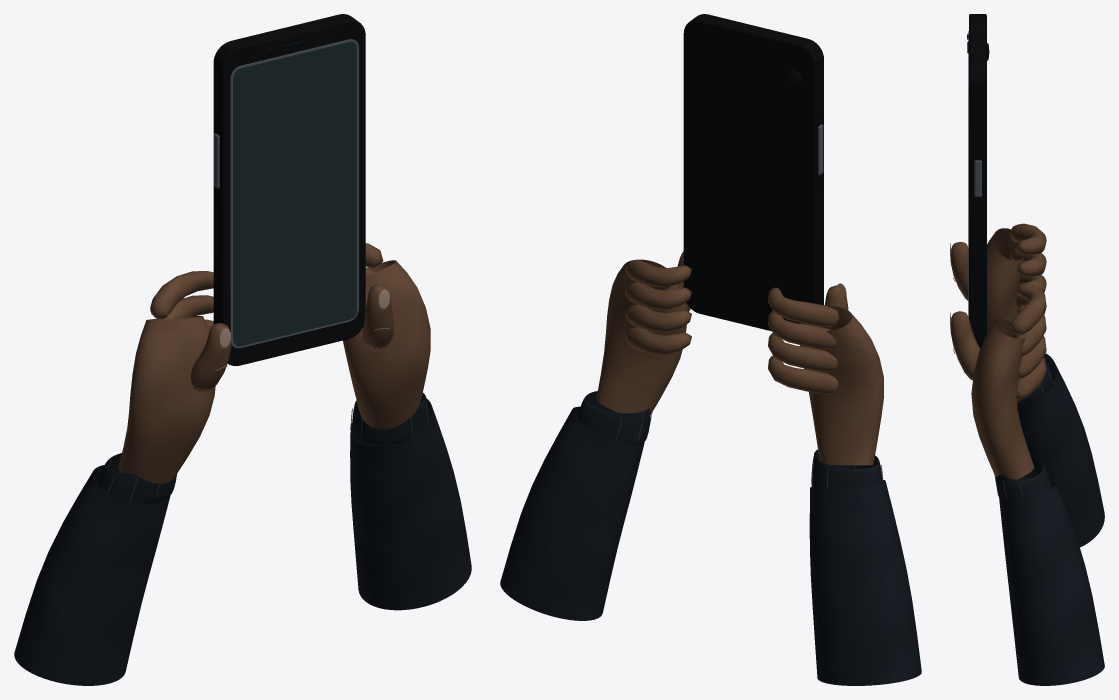
The model's file is held-phone.glb.
The picture shows the model from 3 angles, left to right: view 1: azimuth 30°, elevation 25°; view 2: azimuth 150°, elevation 25°; view 3: azimuth 270°, elevation 25°; orthographic projection. The views are drawn at different scales.
Parts seen in each view (by area): view 1: held-phone / Navy gray nightwear, Fixed display surface, held-phone / Child hand skin, held-phone / Worn phone case, held-phone / Phone frame metal, Left thumb HeldIdle / Child hand skin, Right thumb HeldIdle / Child hand skin; view 2: held-phone / Navy gray nightwear, held-phone / Worn phone case, held-phone / Child hand skin; view 3: held-phone / Navy gray nightwear, held-phone / Child hand skin, held-phone / Worn phone case, Right thumb HeldIdle / Child hand skin, Left thumb HeldIdle / Child hand skin, held-phone / Phone frame metal.
Part boxes in pixels (x1,y1,x2,y2): held-phone / Navy gray nightwear: (14, 392, 471, 685); Fixed display surface: (233, 41, 356, 346); held-phone / Child hand skin: (118, 243, 430, 483); held-phone / Worn phone case: (213, 14, 365, 365); held-phone / Phone frame metal: (214, 39, 358, 348); Left thumb HeldIdle / Child hand skin: (190, 323, 231, 392); Right thumb HeldIdle / Child hand skin: (362, 284, 393, 350); held-phone / Navy gray nightwear: (500, 391, 921, 685); held-phone / Worn phone case: (683, 14, 823, 331); held-phone / Child hand skin: (596, 259, 883, 465); held-phone / Navy gray nightwear: (995, 353, 1104, 685); held-phone / Child hand skin: (971, 223, 1046, 479); held-phone / Worn phone case: (969, 14, 986, 348); Right thumb HeldIdle / Child hand skin: (950, 311, 980, 380); Left thumb HeldIdle / Child hand skin: (950, 242, 968, 300); held-phone / Phone frame metal: (968, 31, 981, 317).
Size of the model in its own units: 0.2305 by 0.3132 by 0.0775.
Materials: 9 (3 with a texture image).
